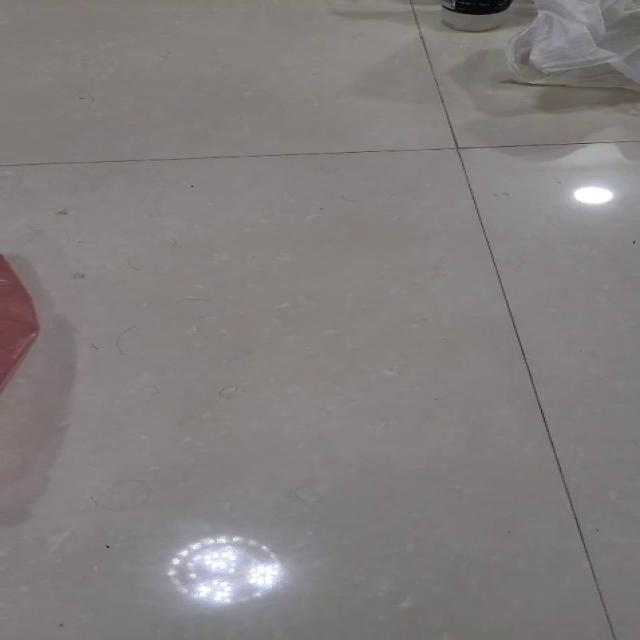plastic: (501, 0, 638, 92)
